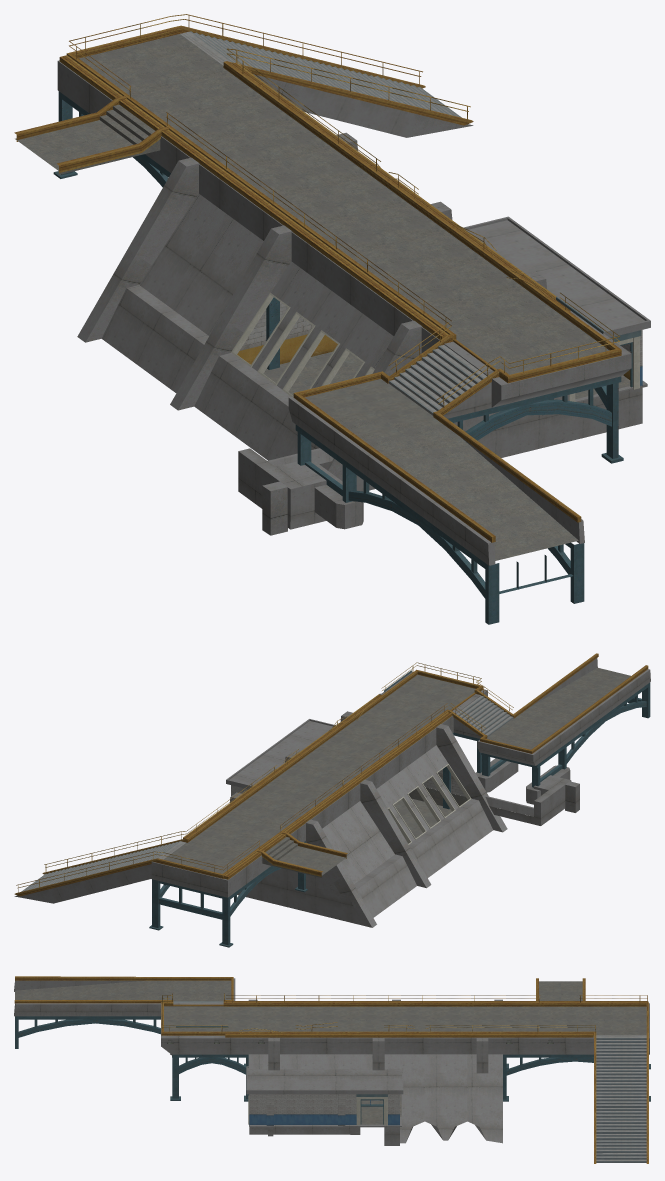
The model's file is Building_Fdc01_2048.glb.
3 renders of one model, top to bottom at view 1: azimuth 30°, elevation 25°; view 2: azimuth 150°, elevation 25°; view 3: azimuth 270°, elevation 25°, orthographic. The views are drawn at different scales.
Parts seen in each view (by area): view 1: xiutz_fdc_01; view 2: xiutz_fdc_01; view 3: xiutz_fdc_01.
Boxes of the visible parts, x1=… form: xiutz_fdc_01: x1=14, y1=14, x2=650, y2=624; xiutz_fdc_01: x1=14, y1=653, x2=650, y2=947; xiutz_fdc_01: x1=14, y1=976, x2=650, y2=1163.
Bounding box in the file's own units: 37.23 × 11.03 × 66.42.
Materials: 1 (1 with a texture image).
